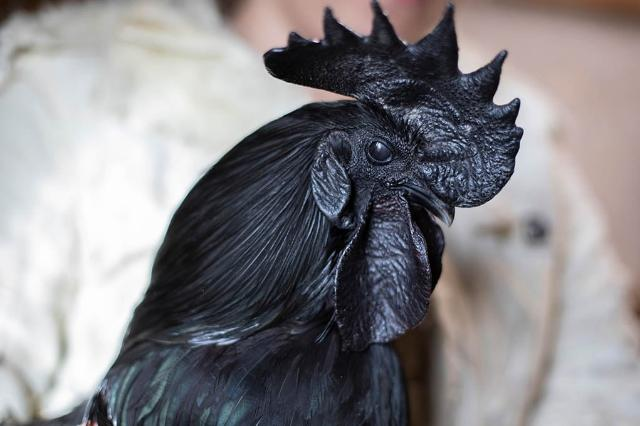Chicken: (80, 2, 526, 426)
